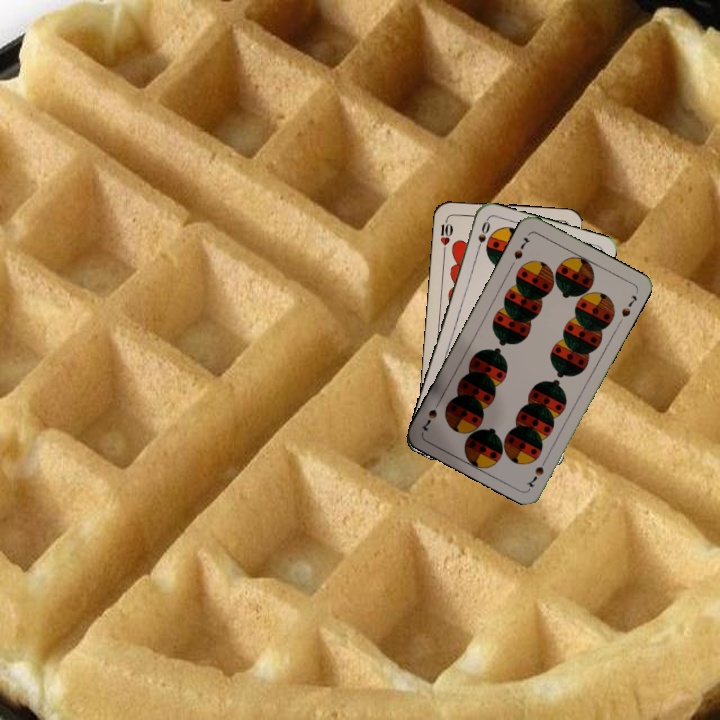H10: (436, 214, 455, 255)
S7: (522, 453, 550, 490), (510, 233, 532, 262)
SO: (472, 217, 493, 256)
